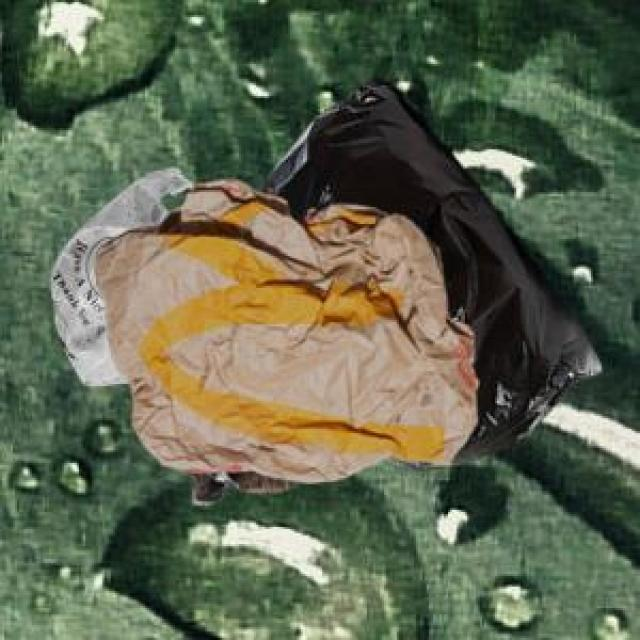miscellaneous trash: (189, 73, 597, 501)
paper: (92, 175, 474, 478)
